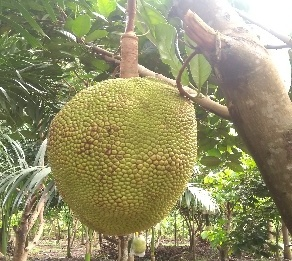Mit: (49, 78, 197, 237)
